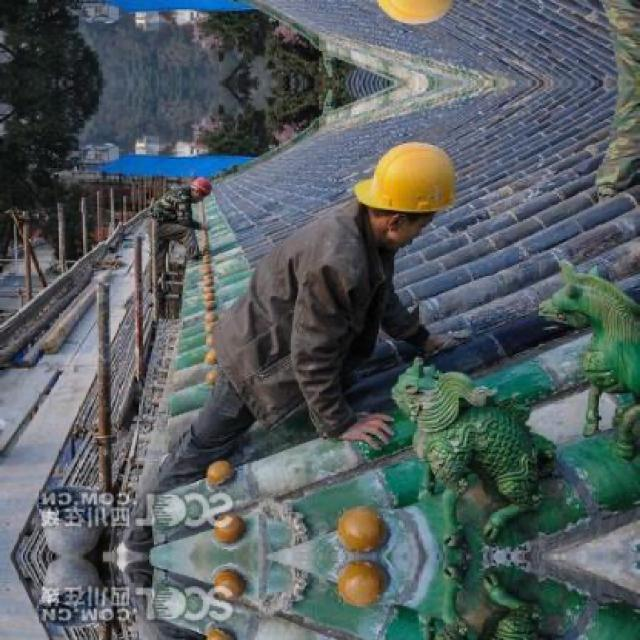helmet: (352, 136, 463, 251), (351, 0, 464, 32), (189, 174, 220, 205)
